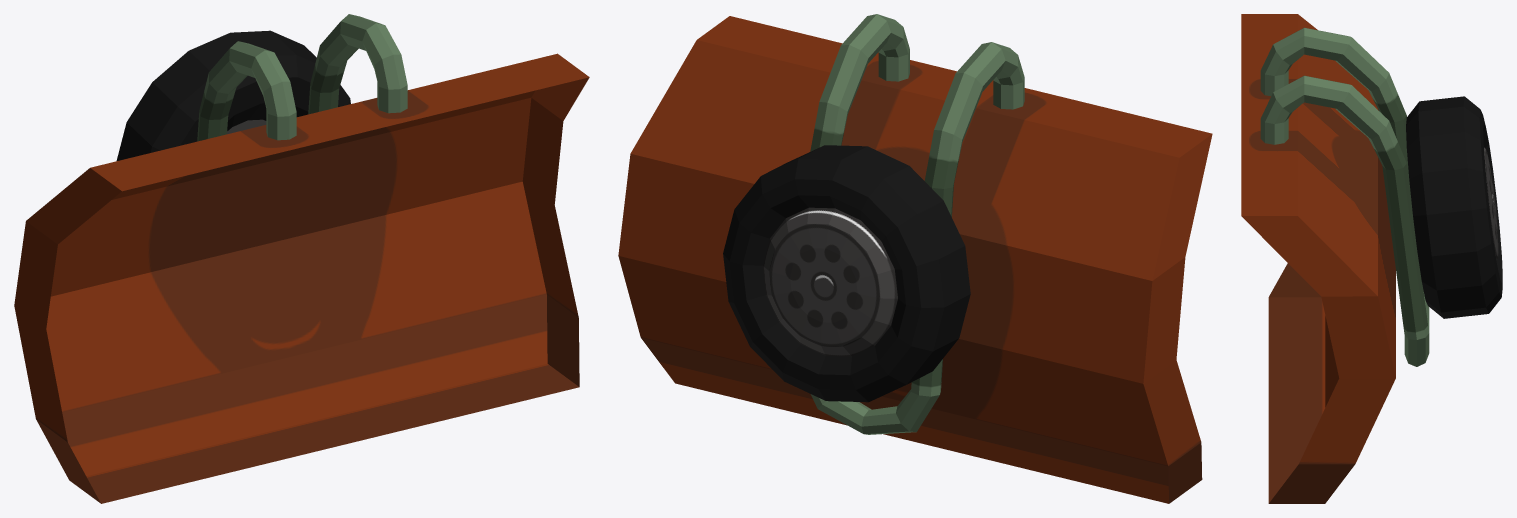
Rendered from car_back_bumper.obj.
The picture shows the model from 3 angles, left to right: view 1: azimuth 30°, elevation 25°; view 2: azimuth 150°, elevation 25°; view 3: azimuth 270°, elevation 25°; orthographic projection. The views are drawn at different scales.
Parts seen in each view (by area): view 1: car_back_bumper_Cylinder.030; view 2: car_back_bumper_Cylinder.030; view 3: car_back_bumper_Cylinder.030.
Boxes of the visible parts, x1=… form: car_back_bumper_Cylinder.030: x1=14, y1=14, x2=589, y2=503; car_back_bumper_Cylinder.030: x1=618, y1=14, x2=1212, y2=503; car_back_bumper_Cylinder.030: x1=1241, y1=14, x2=1502, y2=503.
Bounding box in the file's own units: 2.42 × 1.79 × 1.21.
Materials: 1 (1 with a texture image).
